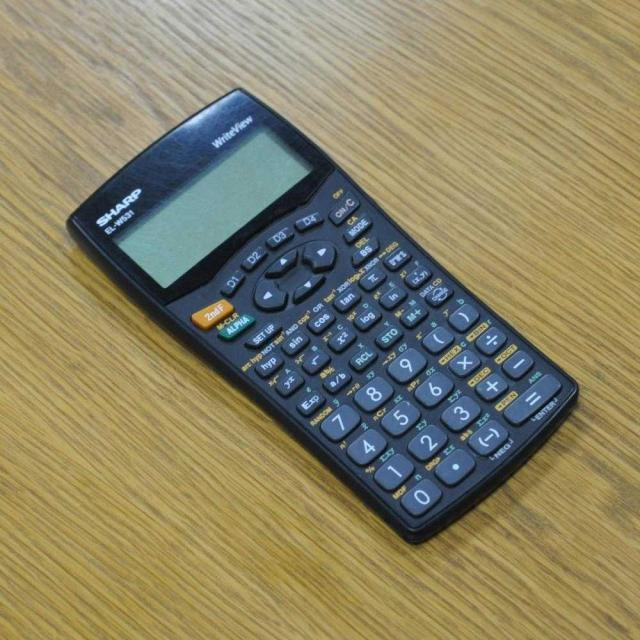Calculator: (67, 89, 579, 541)
